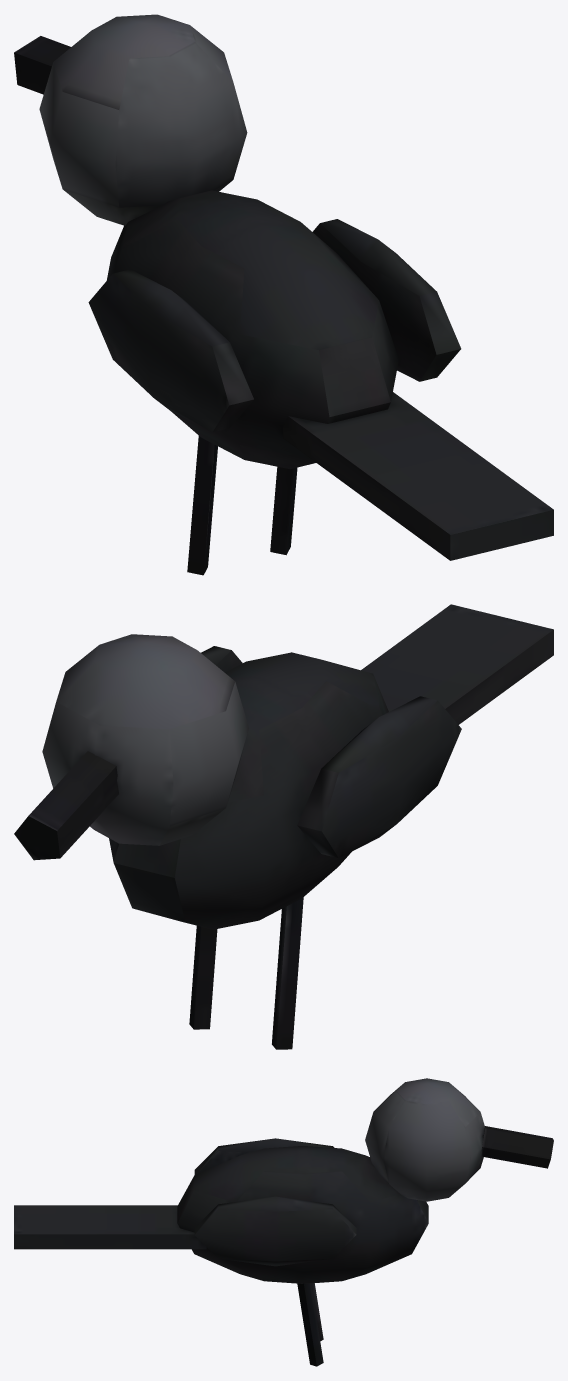
Rendered from crow.glb.
3 views of the same model, one above another, from view 1: azimuth 30°, elevation 25°; view 2: azimuth 150°, elevation 25°; view 3: azimuth 270°, elevation 25° (orthographic). The views are drawn at different scales.
Parts seen in each view (by area): view 1: body; view 2: body; view 3: body.
Boxes of the visible parts, x1=… form: body: x1=14, y1=14, x2=553, y2=575; body: x1=14, y1=604, x2=553, y2=1049; body: x1=14, y1=1078, x2=553, y2=1366.
Size of the model in its own units: 0.124 by 0.2157 by 0.3922.
1 material, 1 textured.
